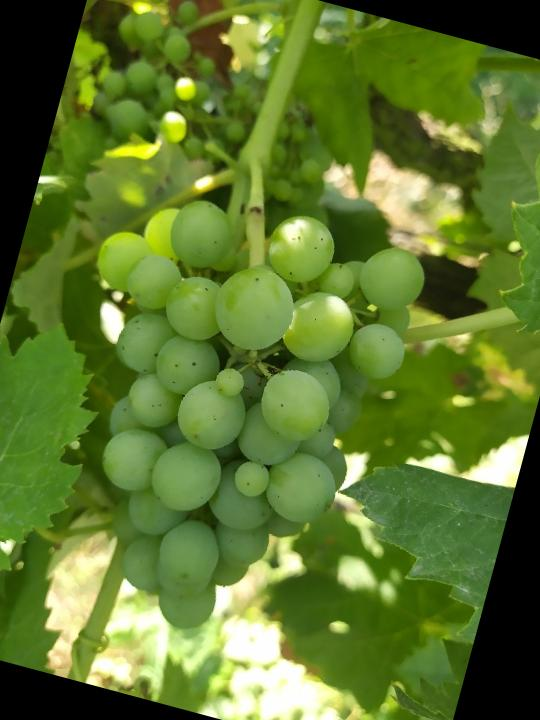grape: (7, 164, 435, 670)
